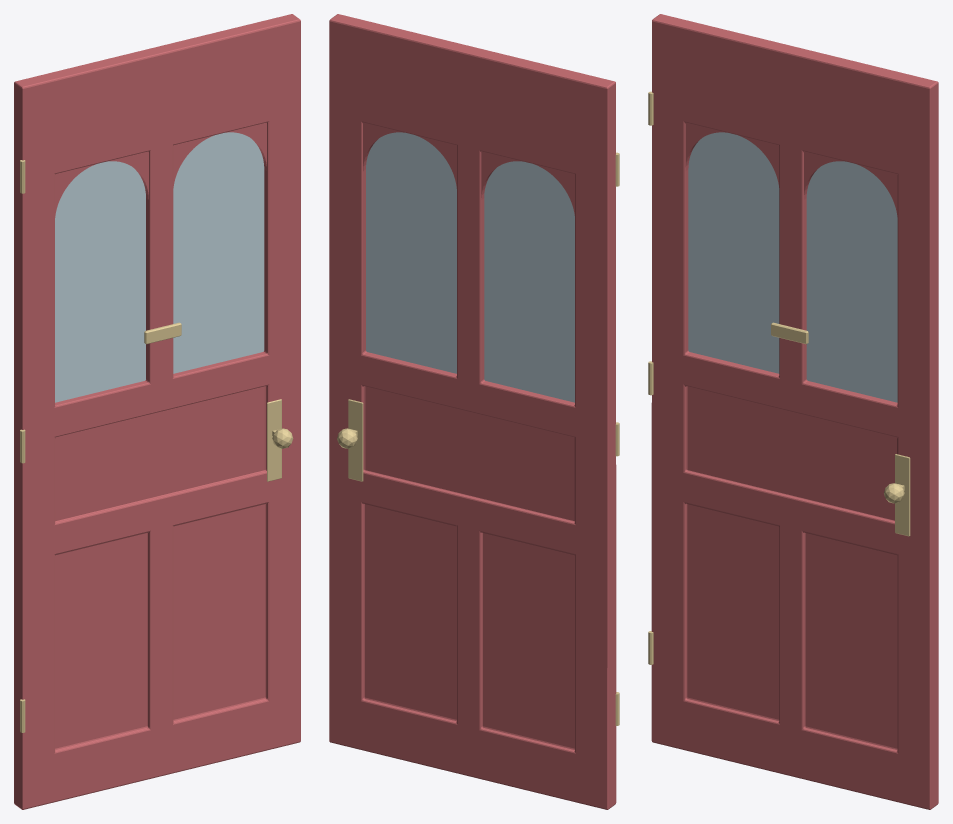
The model's file is door_leaf_front_d.glb.
3 renders of one model, left to right at view 1: azimuth 30°, elevation 25°; view 2: azimuth 150°, elevation 25°; view 3: azimuth 330°, elevation 25°, orthographic.
Visible parts, largest first — view 1: door_leaf_front_d_door_d, door_leaf_front_d_glass, door_leaf_front_d_brass; view 2: door_leaf_front_d_door_d, door_leaf_front_d_glass, door_leaf_front_d_brass; view 3: door_leaf_front_d_door_d, door_leaf_front_d_glass, door_leaf_front_d_brass.
Boxes of the visible parts, <box> form: door_leaf_front_d_door_d: <box>14,14,300,809</box>; door_leaf_front_d_glass: <box>55,132,264,402</box>; door_leaf_front_d_brass: <box>20,160,293,732</box>; door_leaf_front_d_door_d: <box>329,14,616,809</box>; door_leaf_front_d_glass: <box>366,132,574,402</box>; door_leaf_front_d_brass: <box>337,152,619,725</box>; door_leaf_front_d_door_d: <box>651,14,938,809</box>; door_leaf_front_d_glass: <box>688,132,897,402</box>; door_leaf_front_d_brass: <box>648,91,910,664</box>.
Size of the model in its own units: 0.928 by 2.28 by 0.21.
